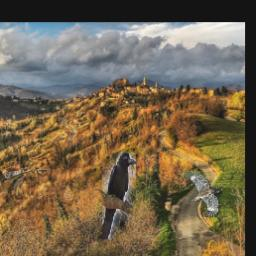Crow: (102, 152, 136, 240)
Woodpecker: (183, 171, 221, 217)
